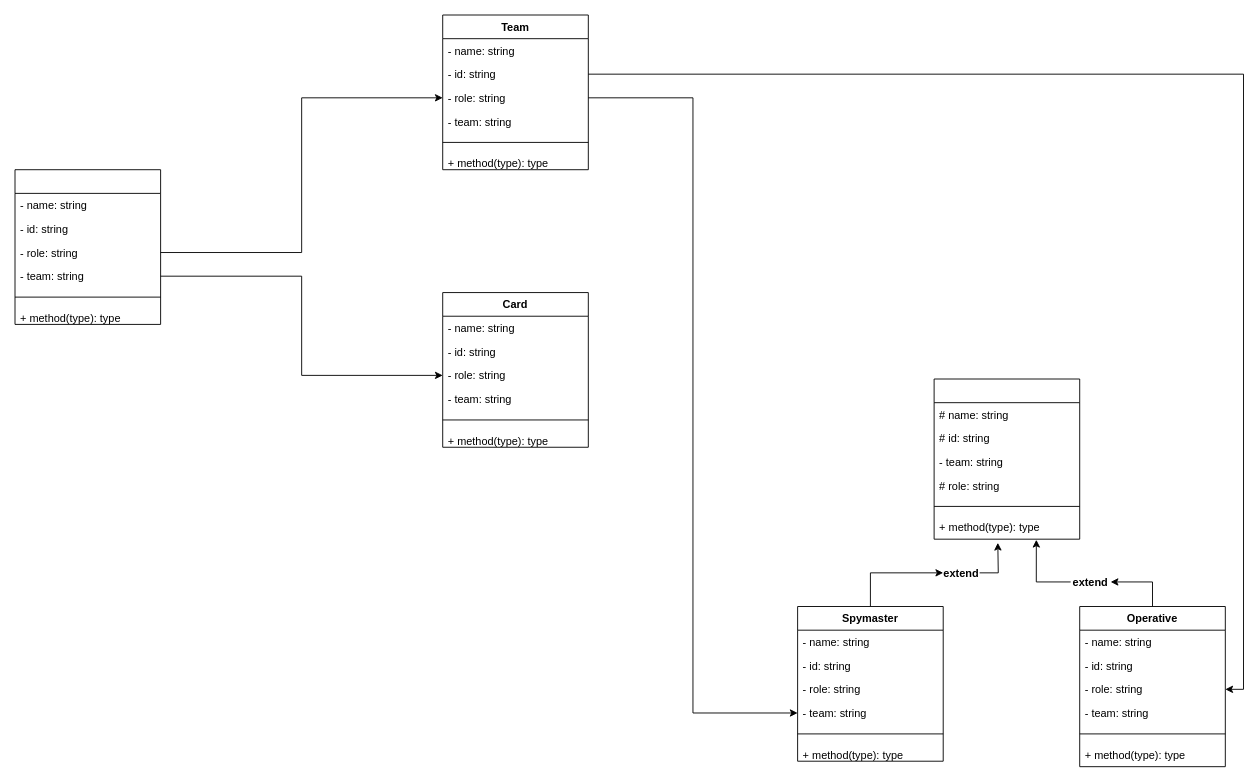
The diagram is 1259 pixels wide and 782 high, and some of its shapes have lost their labels. Here are the shapes that lost their labels. From the top down, the box of each, then its label:
(14, 169, 161, 324): Table
(933, 378, 1080, 539): Player
